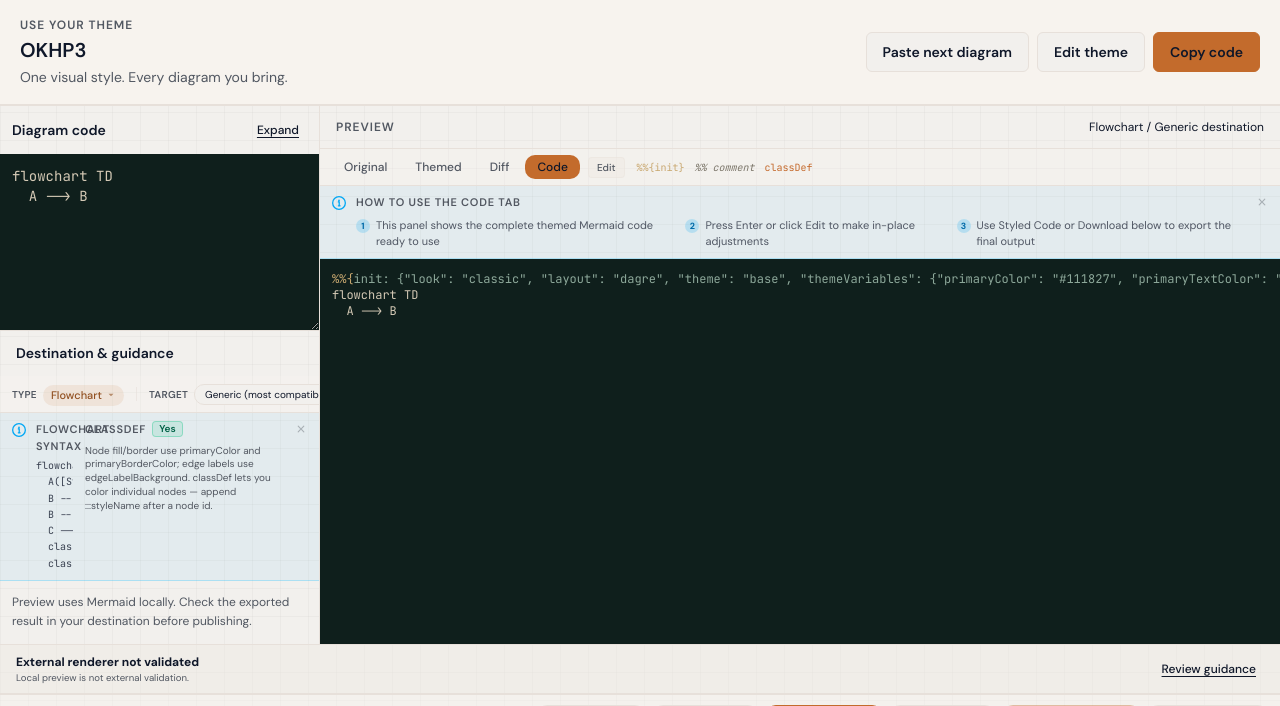
Test: ApplyTab code mode — Reset button in real component › clicking Reset restores the highlighted <pre> and removes the textarea
This screenshot has width=1280, height=706.
Step 1. Click the button titled "Edit the styled code before copying" → {"x": 606, "y": 167}, box [588,156,624,178]
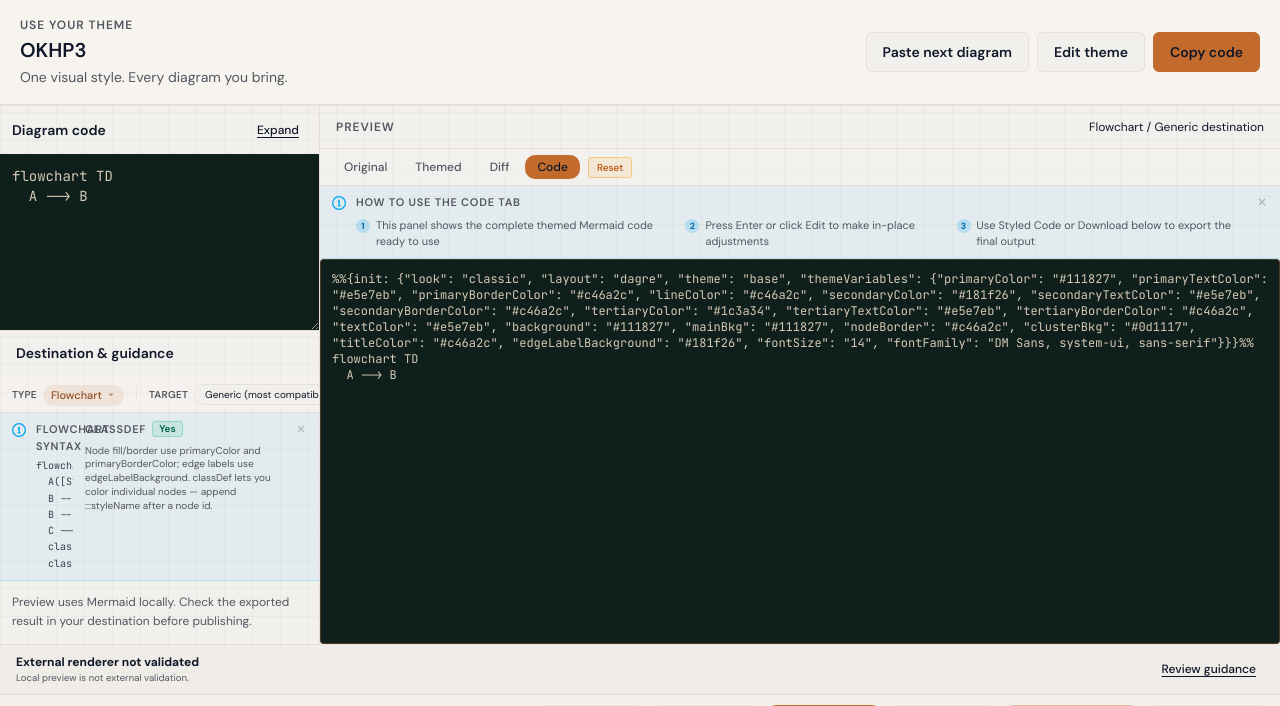
Expected: the text box named "Styled code output — edit before copying" is shown, [320,258,1279,644]
Step 2. Click the button titled "Discard edits and reset to computed output" → {"x": 610, "y": 167}, box [588,156,632,178]
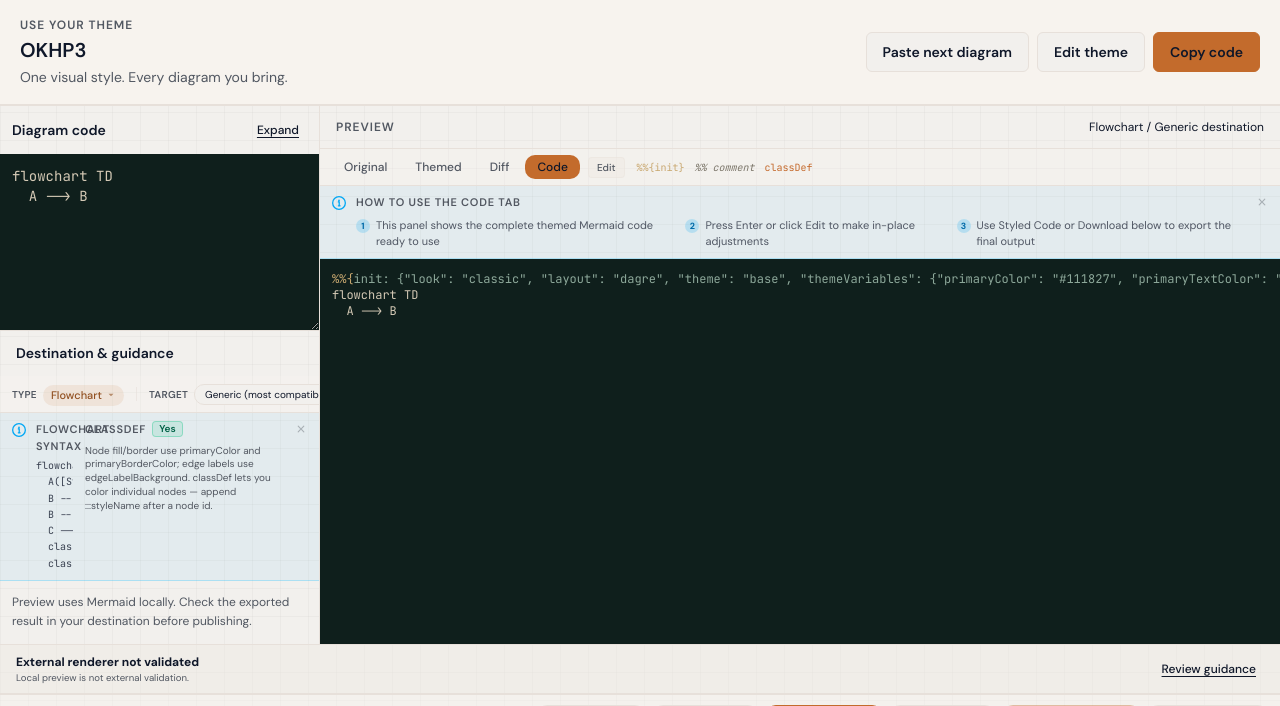
Expected: the element named "Styled code output" is shown, [320,258,1279,644]
